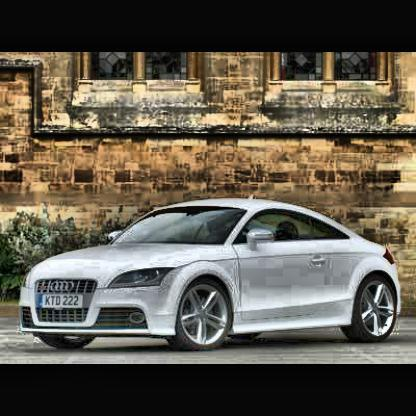Audi TTS Coupe 2012: (18, 200, 400, 356)
